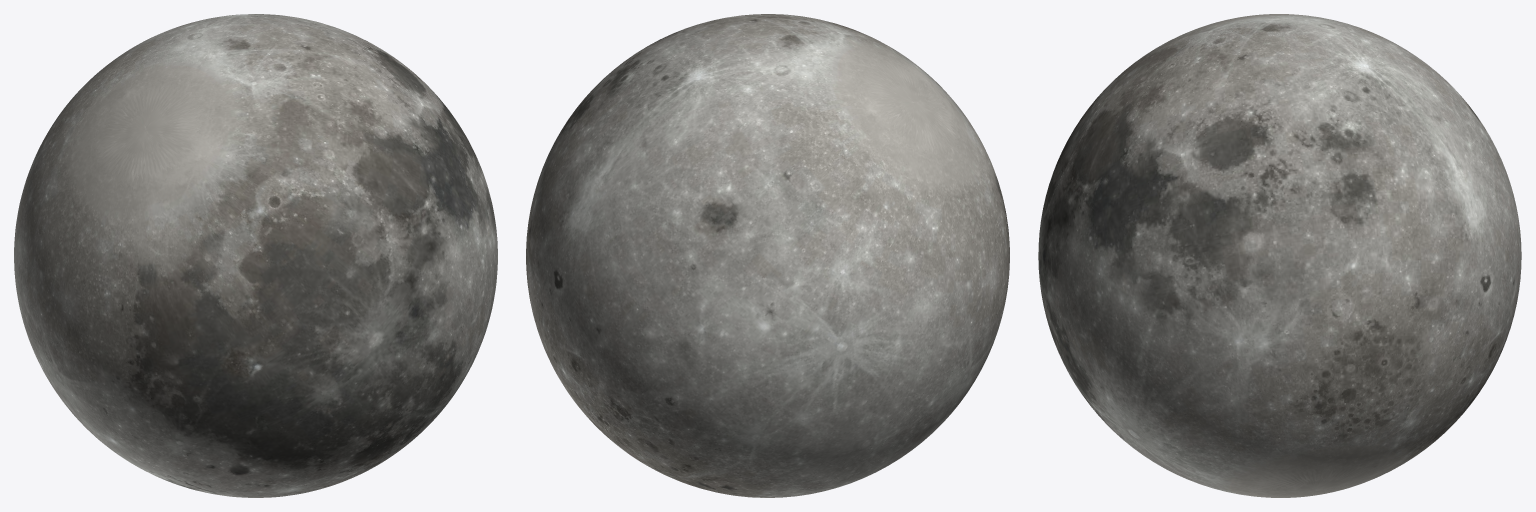
Rendered from moon.obj.
3 views of the same model, side by side, from view 1: azimuth 30°, elevation 25°; view 2: azimuth 150°, elevation 25°; view 3: azimuth 270°, elevation 25° (orthographic).
Visible parts, largest first — view 1: Stylized_Moon_Stylized_Moon_0; view 2: Stylized_Moon_Stylized_Moon_0; view 3: Stylized_Moon_Stylized_Moon_0.
Boxes of the visible parts, left/top/right/bottom form: Stylized_Moon_Stylized_Moon_0: left=14, top=14, right=497, bottom=497; Stylized_Moon_Stylized_Moon_0: left=526, top=14, right=1009, bottom=497; Stylized_Moon_Stylized_Moon_0: left=1038, top=14, right=1521, bottom=497.
Size of the model in its own units: 1.98 by 1.99 by 1.98.
1 material, 1 textured.
